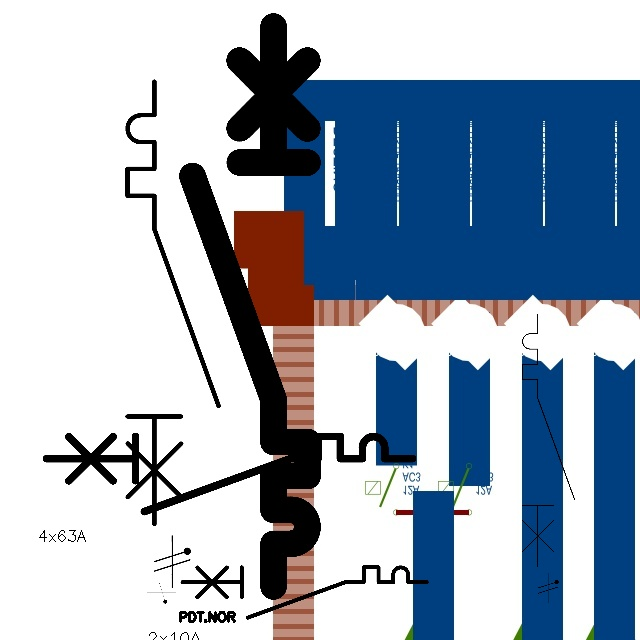interruptor_termomagnetico: (178, 12, 322, 601), (116, 70, 230, 535), (37, 427, 422, 521), (516, 308, 580, 573), (176, 561, 433, 624)
